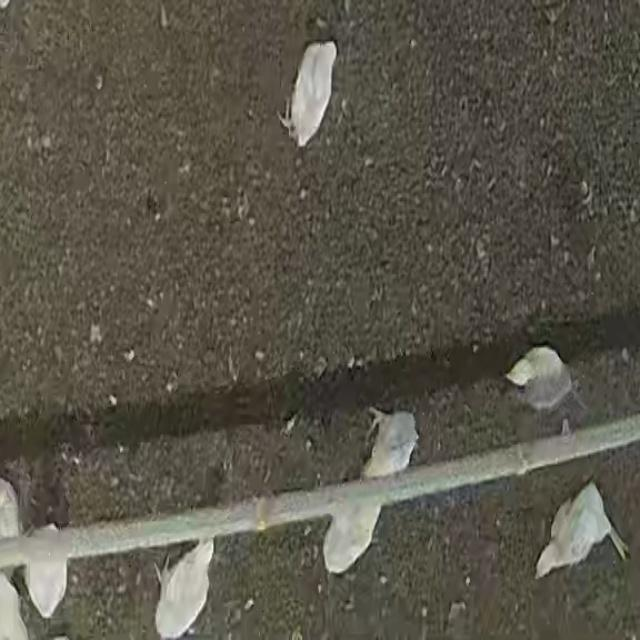chicken: (532, 477, 632, 581), (277, 37, 341, 153), (152, 537, 216, 639)
